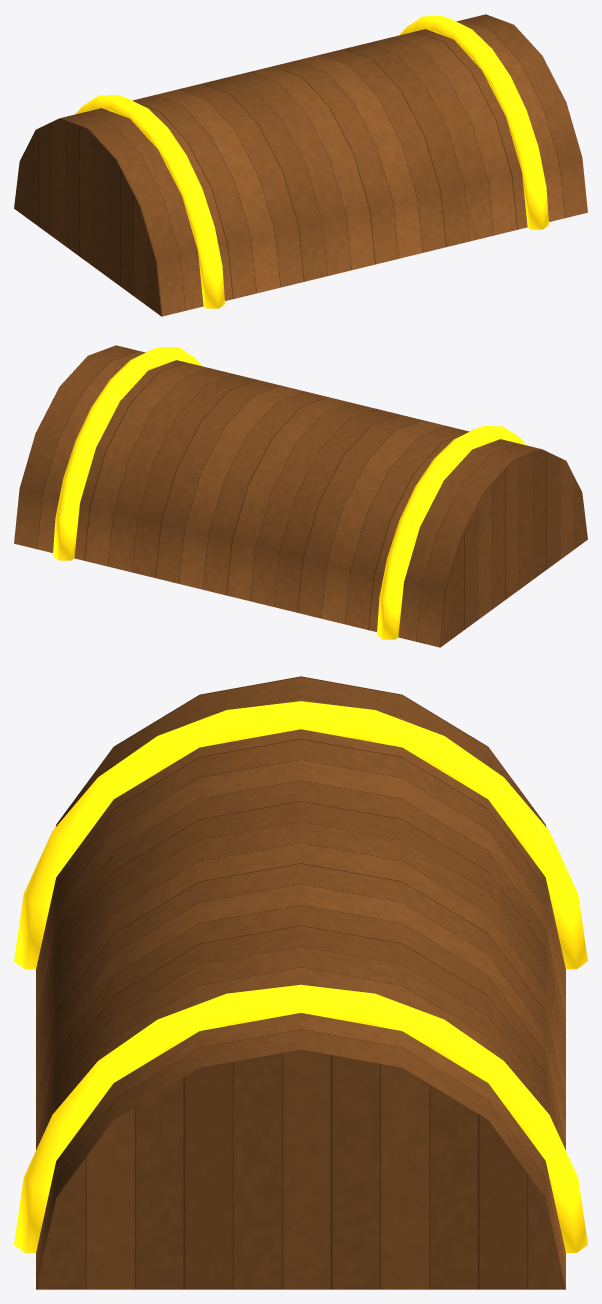
Rendered from env_loot_chest_lid.glb.
3 renders of one model, top to bottom at view 1: azimuth 30°, elevation 25°; view 2: azimuth 150°, elevation 25°; view 3: azimuth 270°, elevation 25°, orthographic. The views are drawn at different scales.
Parts seen in each view (by area): view 1: env_loot_chest_lid; view 2: env_loot_chest_lid; view 3: env_loot_chest_lid.
Part boxes in pixels (x1=…): env_loot_chest_lid: x1=14, y1=14, x2=587, y2=316; env_loot_chest_lid: x1=14, y1=345, x2=587, y2=647; env_loot_chest_lid: x1=14, y1=676, x2=587, y2=1289.
Size of the model in its own units: 1 by 0.325 by 0.65.
Materials: 2 (1 with a texture image).
